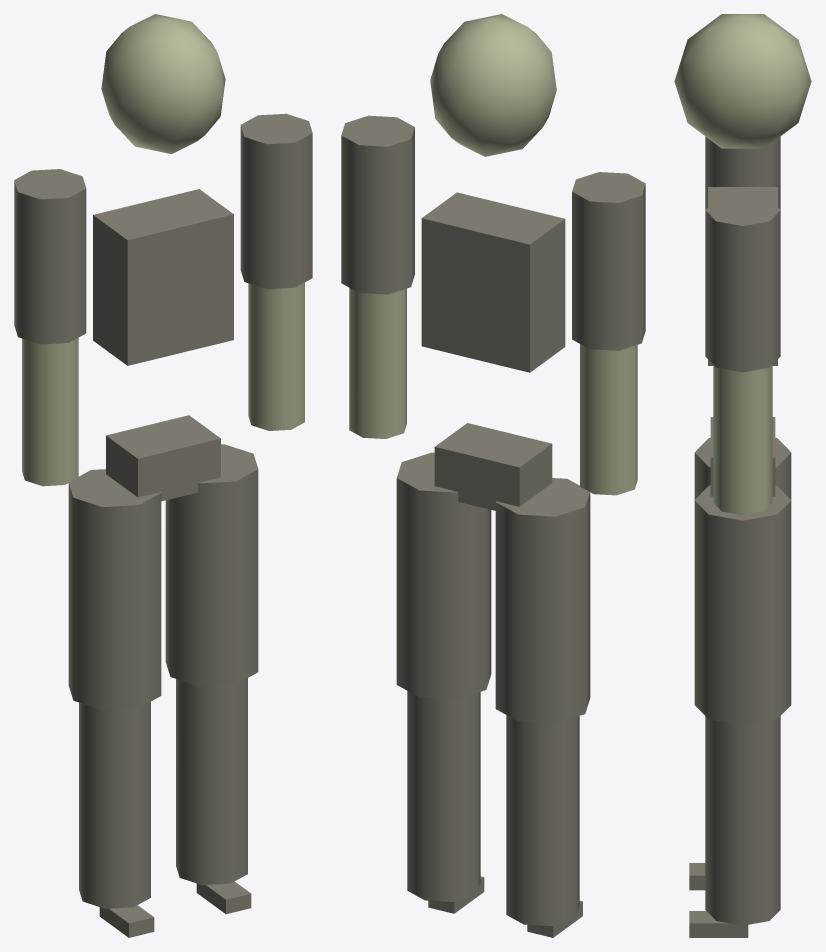
The model's file is zombie_base.glb.
3 views of the same model, side by side, from view 1: azimuth 30°, elevation 25°; view 2: azimuth 150°, elevation 25°; view 3: azimuth 270°, elevation 25° (orthographic).
Visible parts, largest first — view 1: Torso, ThighL, ThighR, ShinL, ShinR, Head, UpperArmL, UpperArmR, ForearmL, ForearmR, Hips, FootL (+1 smaller); view 2: Torso, ThighL, ThighR, ShinR, ShinL, Head, UpperArmL, UpperArmR, ForearmL, ForearmR, Hips; view 3: ThighR, ShinR, Head, UpperArmR, ForearmR, UpperArmL, ThighL, FootR, Torso, Hips, FootL.
Boxes of the visible parts, bbox=[...] form: Torso: bbox=[93, 189, 233, 365]; ThighL: bbox=[68, 469, 161, 709]; ThighR: bbox=[165, 444, 258, 686]; ShinL: bbox=[79, 701, 150, 908]; ShinR: bbox=[176, 678, 247, 885]; Head: bbox=[101, 14, 225, 153]; UpperArmL: bbox=[14, 169, 86, 344]; UpperArmR: bbox=[240, 113, 312, 289]; ForearmL: bbox=[22, 338, 78, 486]; ForearmR: bbox=[248, 282, 304, 430]; Hips: bbox=[106, 415, 220, 501]; FootL: bbox=[99, 905, 154, 937]; Torso: bbox=[421, 192, 565, 372]; ThighL: bbox=[495, 478, 590, 723]; ThighR: bbox=[396, 452, 491, 699]; ShinR: bbox=[407, 691, 480, 901]; ShinL: bbox=[506, 715, 579, 926]; Head: bbox=[430, 14, 556, 156]; UpperArmL: bbox=[572, 172, 645, 350]; UpperArmR: bbox=[341, 115, 414, 294]; ForearmL: bbox=[580, 344, 637, 495]; ForearmR: bbox=[349, 288, 406, 438]; Hips: bbox=[434, 423, 552, 510]; ThighR: bbox=[694, 485, 791, 725]; ShinR: bbox=[705, 716, 780, 925]; Head: bbox=[674, 14, 811, 148]; UpperArmR: bbox=[705, 194, 780, 372]; ForearmR: bbox=[713, 365, 772, 515]; UpperArmL: bbox=[705, 136, 780, 209]; ThighL: bbox=[694, 437, 791, 499]; FootR: bbox=[689, 911, 748, 937]; Torso: bbox=[708, 187, 777, 365]; Hips: bbox=[710, 417, 775, 496]; FootL: bbox=[689, 863, 705, 890].
Bounding box in the file's own units: 0.63 × 1.83 × 0.255.
